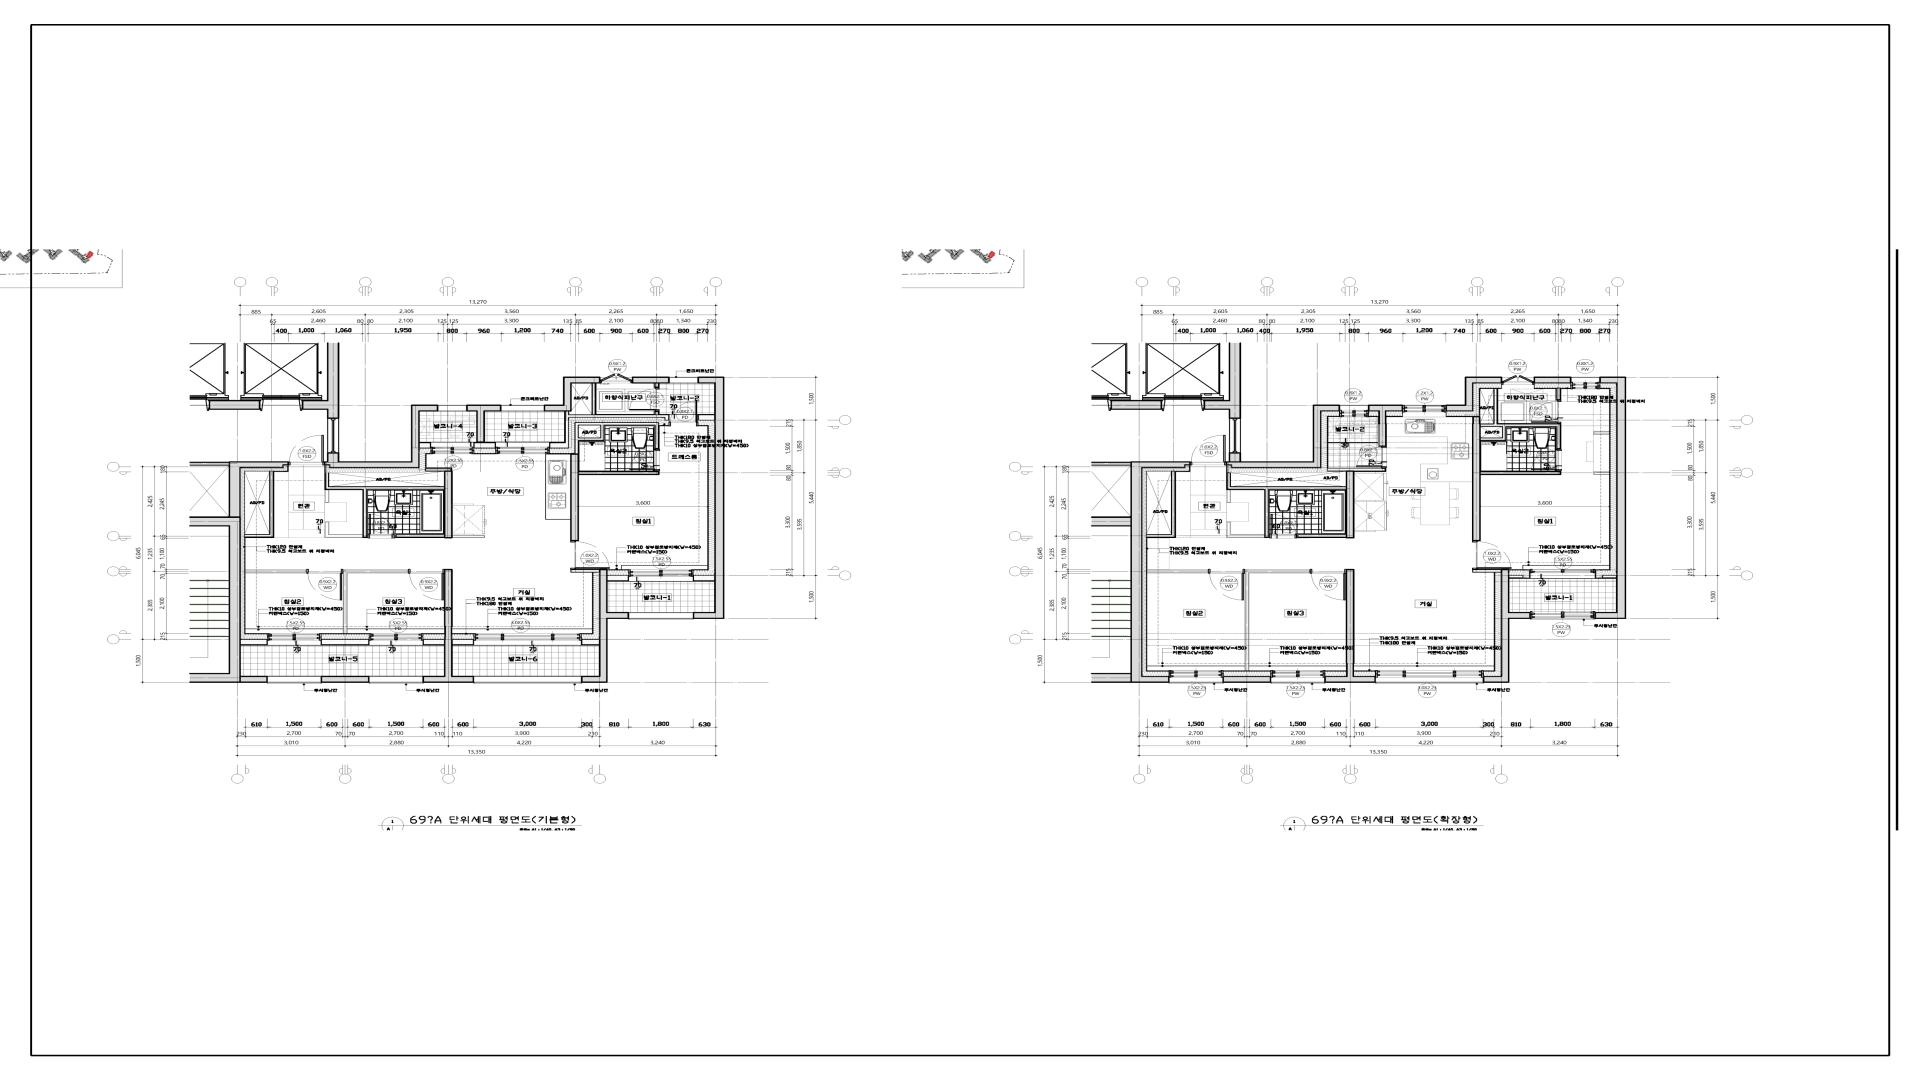door: (306, 568, 343, 601), (1208, 568, 1245, 601), (570, 541, 611, 570), (1472, 541, 1513, 570), (407, 568, 444, 600), (1309, 568, 1346, 600), (289, 435, 324, 465), (1191, 435, 1226, 465), (670, 400, 699, 426), (1531, 401, 1561, 423), (629, 450, 661, 471), (1531, 450, 1563, 471), (1356, 447, 1387, 468), (368, 514, 396, 538), (1270, 514, 1298, 538)
wall: (1472, 388, 1561, 541), (228, 462, 289, 683), (1130, 462, 1191, 683), (324, 467, 485, 538), (1226, 468, 1387, 538), (570, 422, 659, 541), (550, 384, 670, 448), (694, 377, 725, 618), (1596, 377, 1626, 618), (324, 405, 438, 468), (1226, 405, 1340, 468), (1245, 570, 1309, 670), (423, 570, 473, 683), (1325, 570, 1375, 683), (582, 570, 628, 683), (1484, 570, 1530, 683), (343, 570, 407, 633), (302, 343, 340, 418), (1146, 471, 1176, 538), (245, 471, 274, 538), (1445, 377, 1502, 411), (543, 377, 600, 411), (1369, 405, 1403, 447), (467, 405, 501, 442), (210, 400, 260, 410), (322, 638, 369, 646), (322, 676, 369, 683), (1224, 676, 1271, 683), (245, 570, 306, 574), (1147, 570, 1208, 574), (633, 377, 669, 384), (1535, 377, 1571, 384), (241, 638, 268, 646), (423, 638, 444, 646), (452, 638, 473, 646), (473, 442, 496, 448), (608, 575, 629, 582), (694, 575, 715, 582), (582, 638, 599, 646), (698, 414, 715, 421), (419, 442, 431, 448), (1472, 570, 1501, 572), (571, 570, 599, 572), (1556, 388, 1561, 401), (1593, 431, 1609, 435), (1602, 575, 1617, 579), (1510, 575, 1523, 579), (1593, 472, 1609, 475), (655, 384, 659, 388)
window: (473, 633, 582, 646), (1375, 670, 1484, 683), (1168, 670, 1224, 684), (629, 570, 694, 582), (473, 676, 582, 683), (268, 633, 322, 646), (369, 633, 423, 646), (1271, 670, 1325, 683), (1530, 568, 1596, 579), (496, 442, 550, 454), (1530, 611, 1596, 620), (431, 442, 473, 455), (629, 612, 694, 620), (1403, 405, 1445, 417), (1502, 375, 1535, 389), (268, 676, 322, 684), (327, 418, 339, 452), (369, 676, 423, 683), (1340, 405, 1369, 417), (1571, 377, 1600, 389), (600, 373, 632, 384), (501, 405, 543, 411), (438, 405, 467, 411), (670, 377, 698, 384)
